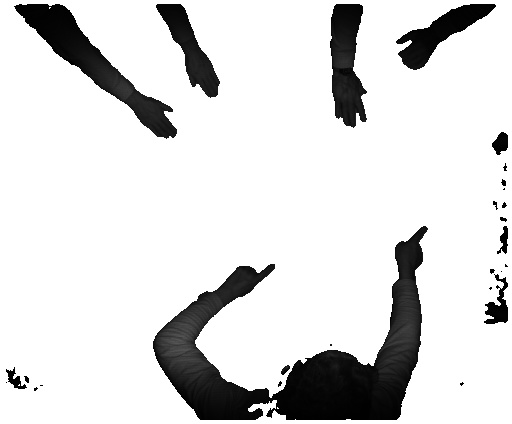hand: (134, 98, 183, 143), (392, 224, 431, 277), (328, 74, 367, 127), (186, 48, 223, 103), (392, 30, 440, 71), (223, 264, 279, 299)
